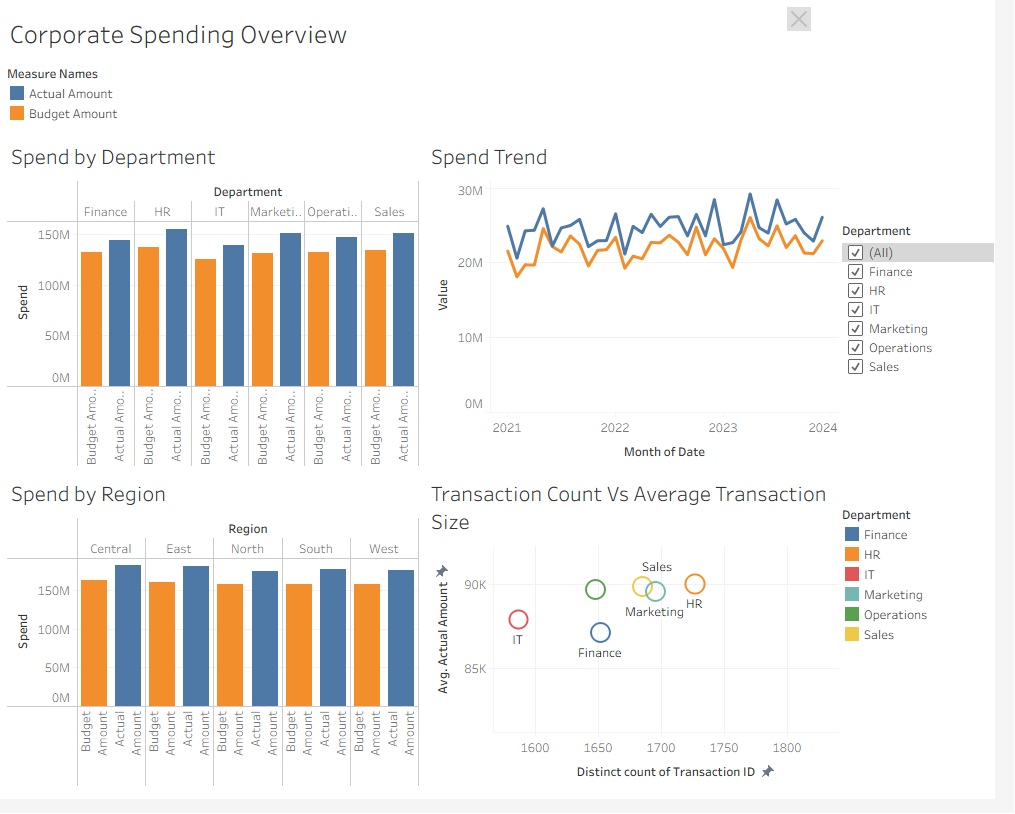

The page's visual inventory and layout, read from the dashboard file:
{"tool":"tableau","page":{"name":"Corporate Spending Overview","canvas":[1000,800],"ordinal":0},"visuals":[{"type":"title","box":[8,8,840,54]},{"type":"dashboard-object","box":[792,8,24,24]},{"type":"legend","title":"Spend Trend","param":"[federated.0evec161osy1w01300jks03xjvj8].[:Measure Names]","box":[8,62,840,73]},{"type":"worksheet","title":"Spend by Dept","mark":"Automatic","cols":["Department"],"box":[8,135,420,336.7]},{"type":"worksheet","title":"Spend Trend","mark":"Automatic","cols":["Date"],"box":[428,135,420,336.7]},{"type":"filter","title":"Spend Trend","param":"[federated.0evec161osy1w01300jks03xjvj8].[none:Department:nk]","box":[847,223,152,165]},{"type":"worksheet","title":"Spend by Region","mark":"Automatic","cols":["Region"],"box":[8,471.7,420,320.3]},{"type":"worksheet","title":"Transaction Count Vs Average Transaction Size","mark":"Automatic","rows":["Actual Amount"],"cols":["Transaction ID"],"box":[428,471.7,420,320.3]},{"type":"legend","title":"Transaction Count Vs Average Transaction Size","param":"[federated.0evec161osy1w01300jks03xjvj8].[none:Department:nk]","box":[847,507,140,138]}]}

Visuals, with their boxes in screenshot pixels (x1, y1, x2, y2), scaled from the page's 1000x800 canvas onto the 1015x814 screenshot:
title: (left=8, top=8, right=861, bottom=63)
dashboard-object: (left=804, top=8, right=828, bottom=33)
"Spend Trend" legend: (left=8, top=63, right=861, bottom=137)
"Spend by Dept" worksheet: (left=8, top=137, right=434, bottom=480)
"Spend Trend" worksheet: (left=434, top=137, right=861, bottom=480)
"Spend Trend" filter: (left=860, top=227, right=1014, bottom=395)
"Spend by Region" worksheet: (left=8, top=480, right=434, bottom=806)
"Transaction Count Vs Average Transaction Size" worksheet: (left=434, top=480, right=861, bottom=806)
"Transaction Count Vs Average Transaction Size" legend: (left=860, top=516, right=1002, bottom=656)
